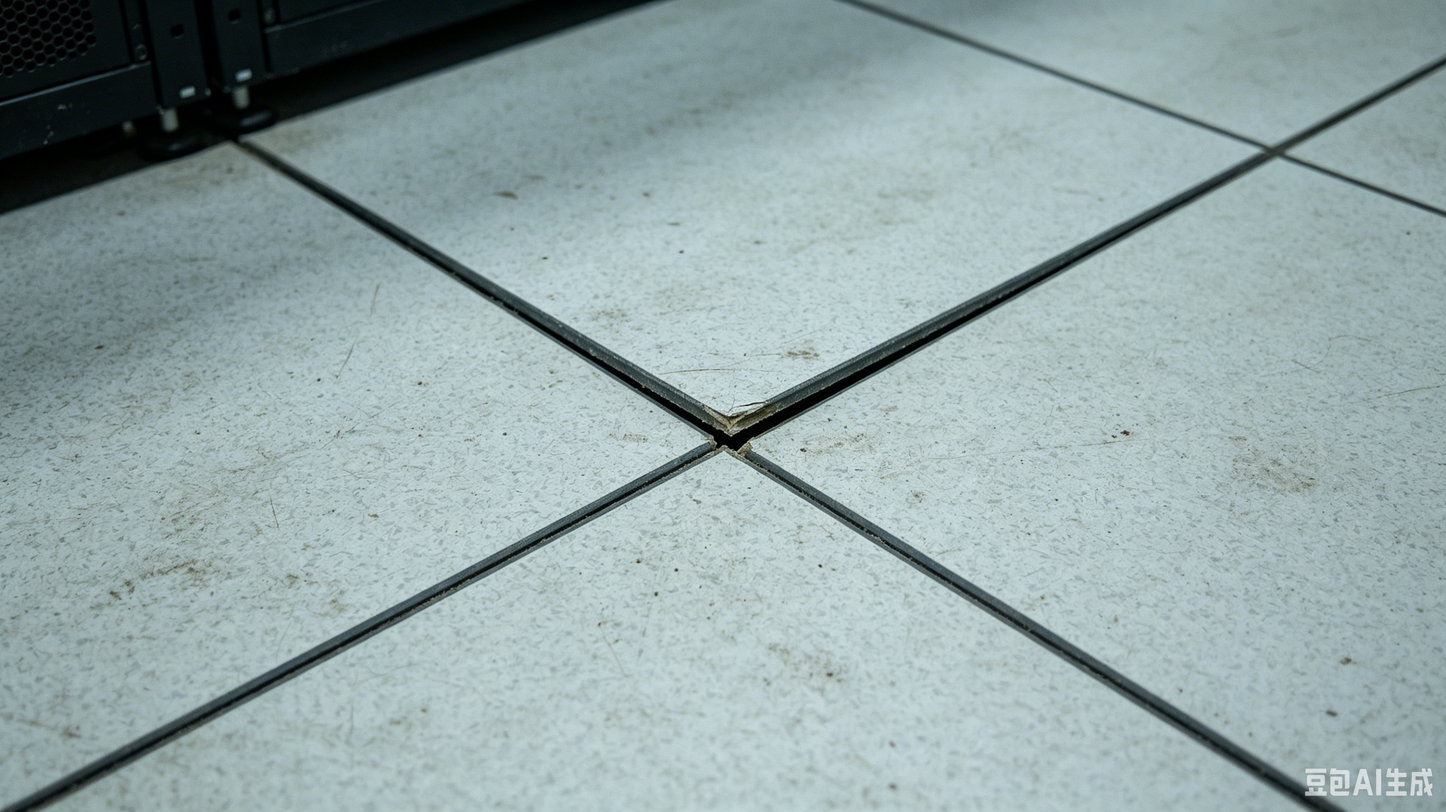floor_defect: (559, 303, 935, 494)
